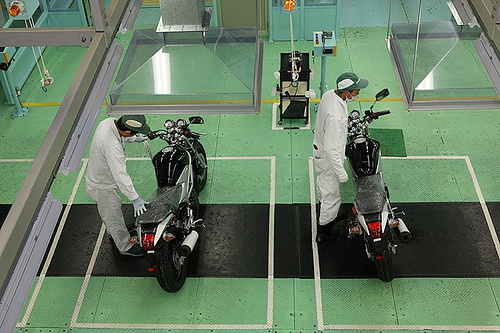non-vehicle: (128, 115, 207, 293), (343, 87, 412, 283)
